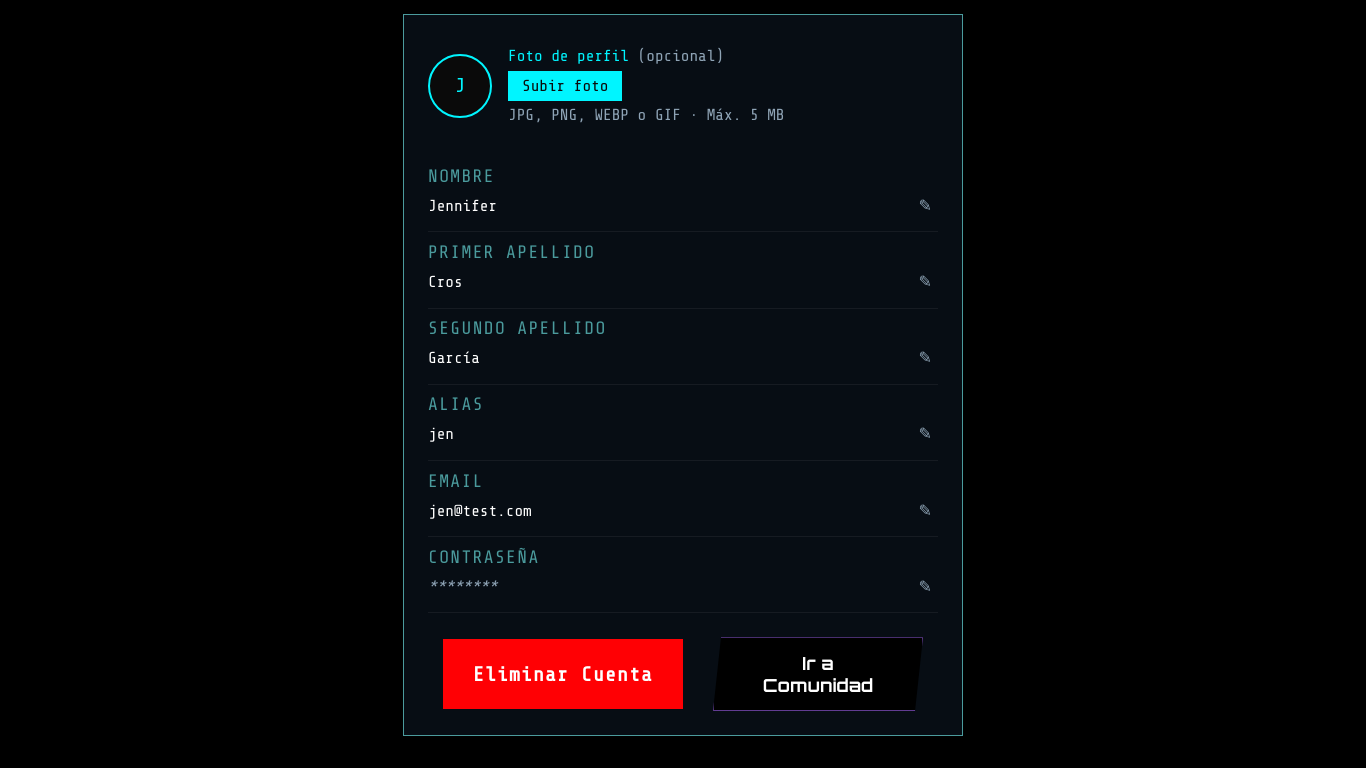
it: UserProfile — cobertura 100% › abre el modal de confirmación al hacer click en 'Eliminar Cuenta'
(page scrolled)
Click the button "Eliminar Cuenta" at (563, 674), box top-left (443, 639), bottom-right (683, 709)
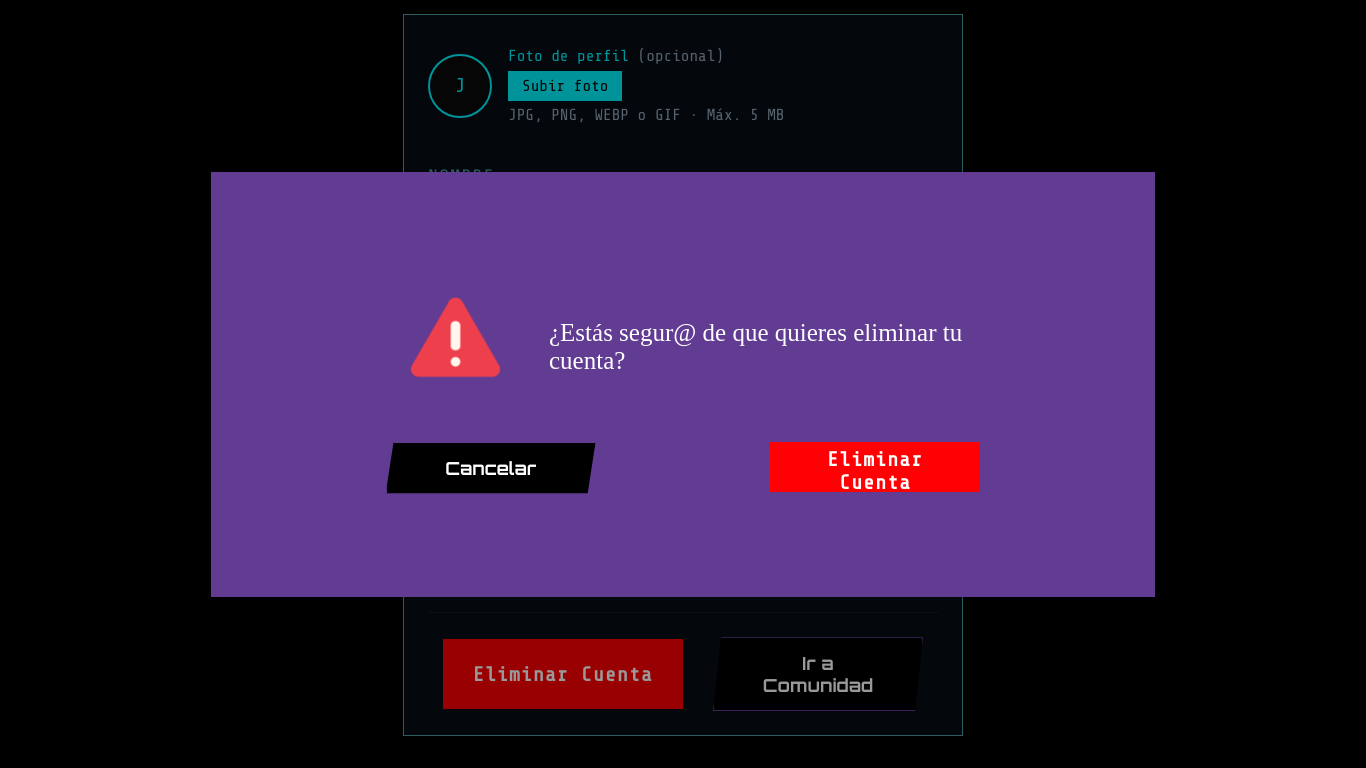
Result: the text "¿Estás segur@ de que quieres eliminar tu cuenta?" is shown at top-left (549, 319), bottom-right (974, 357)
